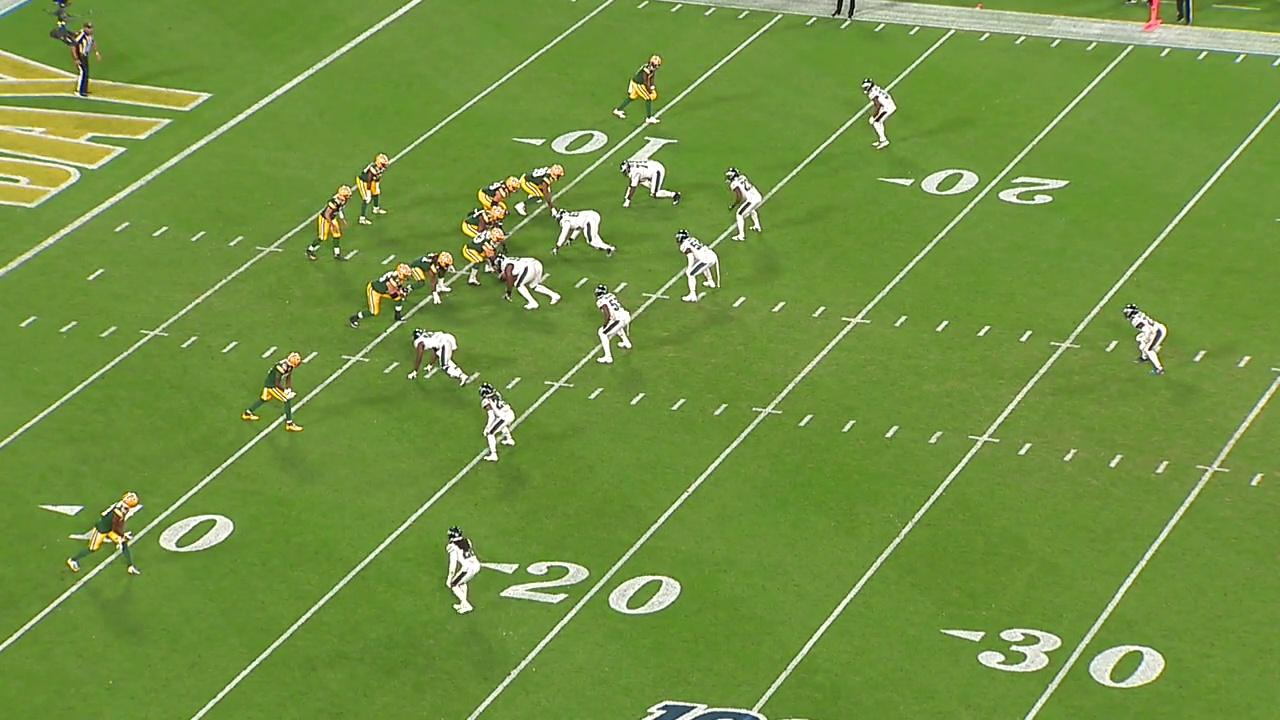defense: (667, 226, 723, 307), (1117, 297, 1169, 381), (490, 253, 560, 313), (550, 204, 617, 262), (443, 523, 482, 619), (589, 280, 632, 367), (616, 156, 680, 211), (404, 329, 468, 384), (721, 159, 761, 243), (480, 377, 515, 465), (861, 80, 900, 155)
oline: (351, 257, 410, 336), (455, 224, 514, 287), (399, 250, 460, 308), (458, 206, 506, 255), (476, 174, 523, 221)
qb: (303, 184, 351, 267)
ref: (70, 14, 104, 99)
skill: (65, 489, 144, 589), (242, 351, 309, 435), (615, 53, 669, 128), (356, 149, 399, 226), (520, 166, 573, 217)
